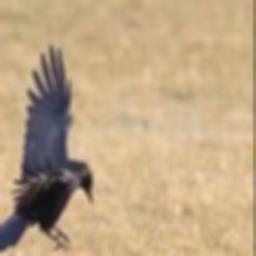Crow: (0, 44, 93, 254)
